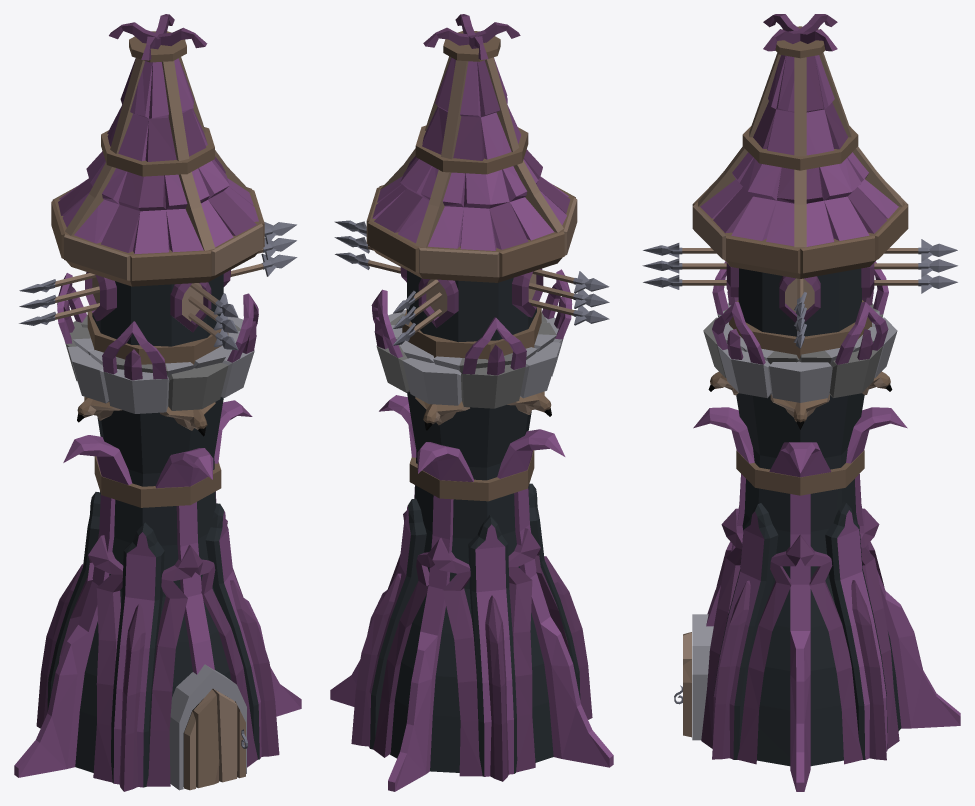
File: Archer_LVL4.fbx
3 views of the same model, side by side, from view 1: azimuth 30°, elevation 25°; view 2: azimuth 150°, elevation 25°; view 3: azimuth 270°, elevation 25° (orthographic).
Parts seen in each view (by area): view 1: archer_tower_LVL_4, archer_tower_LVL_4.001; view 2: archer_tower_LVL_4, archer_tower_LVL_4.001; view 3: archer_tower_LVL_4, archer_tower_LVL_4.001.
Part boxes in pixels (x1,y1,x2,y2): archer_tower_LVL_4: (14,14,301,791); archer_tower_LVL_4.001: (19,221,297,350); archer_tower_LVL_4: (330,14,613,791); archer_tower_LVL_4.001: (334,220,609,345); archer_tower_LVL_4: (674,14,960,791); archer_tower_LVL_4.001: (642,239,957,348).
Bounding box in the file's own units: 639 × 1542 × 634.
